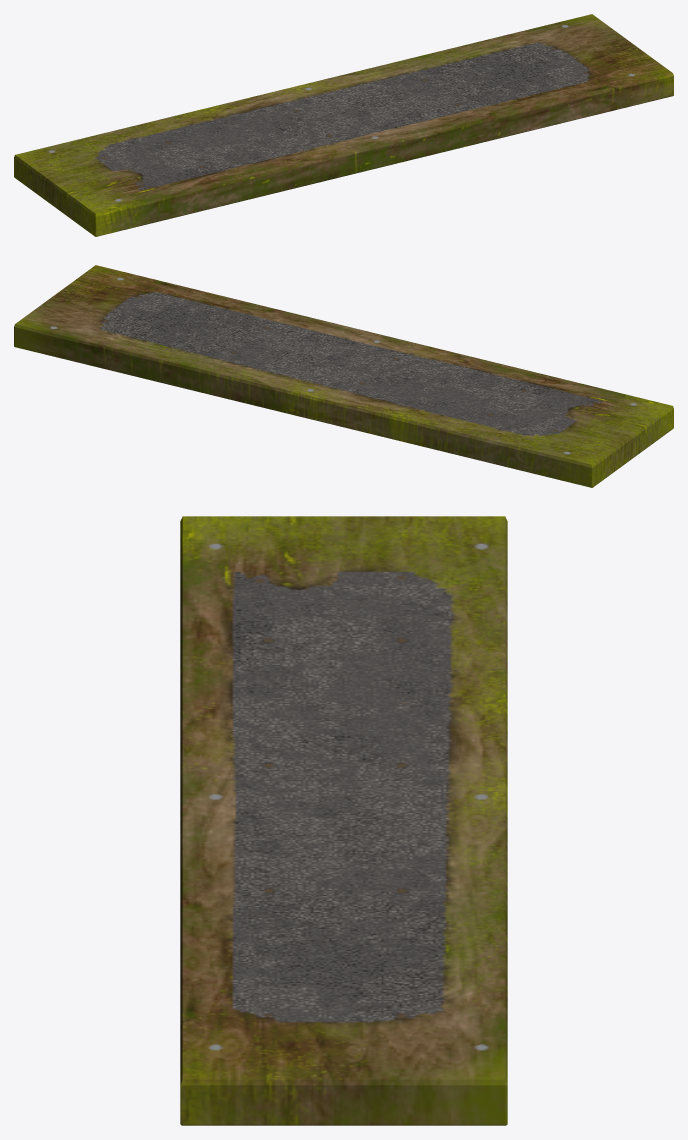
The model's file is PNW Pathway_Plank_B_Grip.glb.
3 renders of one model, top to bottom at view 1: azimuth 30°, elevation 25°; view 2: azimuth 150°, elevation 25°; view 3: azimuth 270°, elevation 25°, orthographic. The views are drawn at different scales.
Parts seen in each view (by area): view 1: Plank B_Grip; view 2: Plank B_Grip; view 3: Plank B_Grip.
Boxes of the visible parts, bbox=[...] form: Plank B_Grip: bbox=[14, 14, 673, 236]; Plank B_Grip: bbox=[14, 265, 673, 487]; Plank B_Grip: bbox=[180, 516, 507, 1125].
Bounding box in the file's own units: 1.52 × 0.0577 × 0.372.
Materials: 1 (1 with a texture image).
